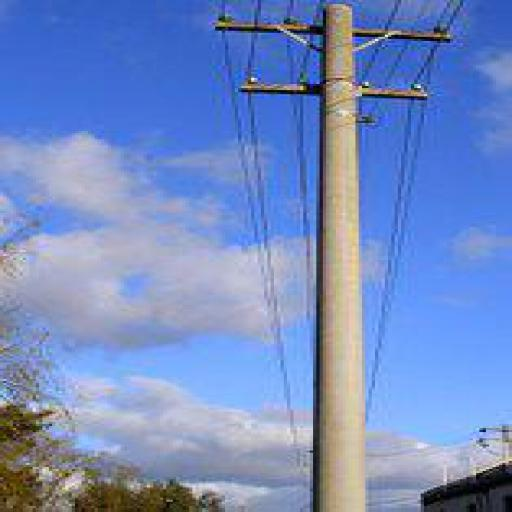mono_8: (215, 4, 460, 510)
